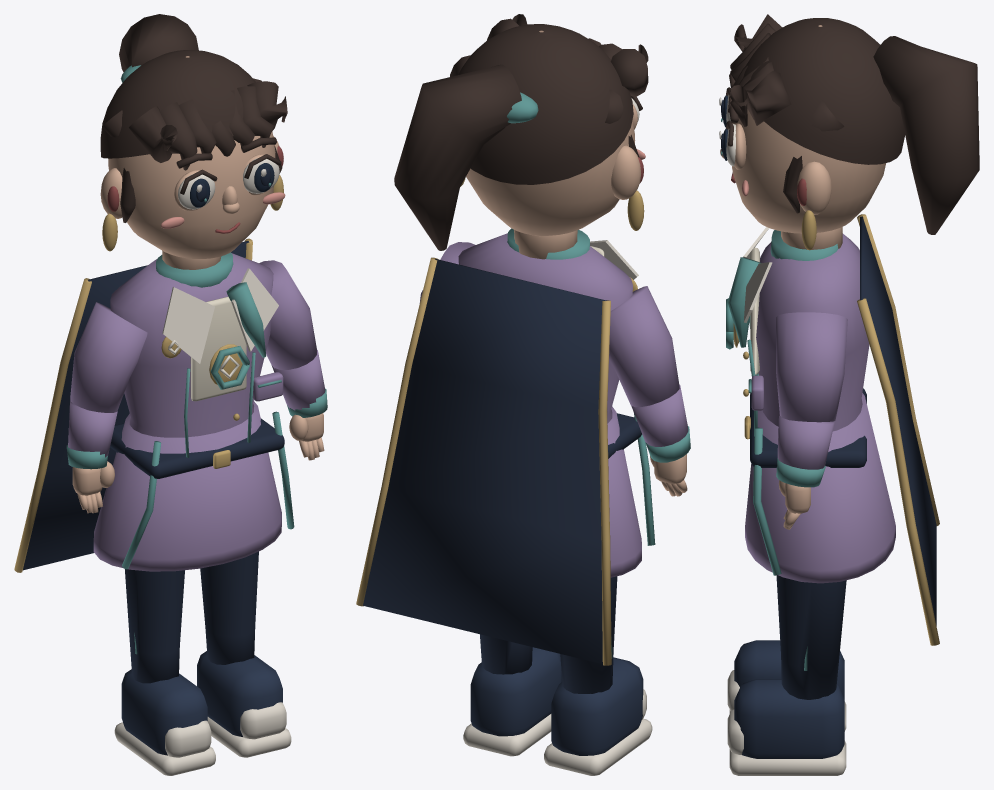
The model's file is npc_hexruins_trainer_4.glb.
3 views of the same model, side by side, from view 1: azimuth 30°, elevation 25°; view 2: azimuth 150°, elevation 25°; view 3: azimuth 270°, elevation 25° (orthographic). The views are drawn at different scales.
Visible parts, largest first — view 1: figure.063; view 2: figure.063; view 3: figure.063.
Boxes of the visible parts, x1,y1,x2,y2 form: figure.063: (14, 14, 327, 775); figure.063: (356, 14, 690, 775); figure.063: (719, 14, 979, 775).
Size of the model in its own units: 0.6202 by 1.58 by 0.5184.
